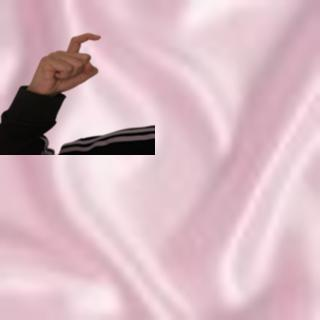WHY: (28, 28, 106, 95)
